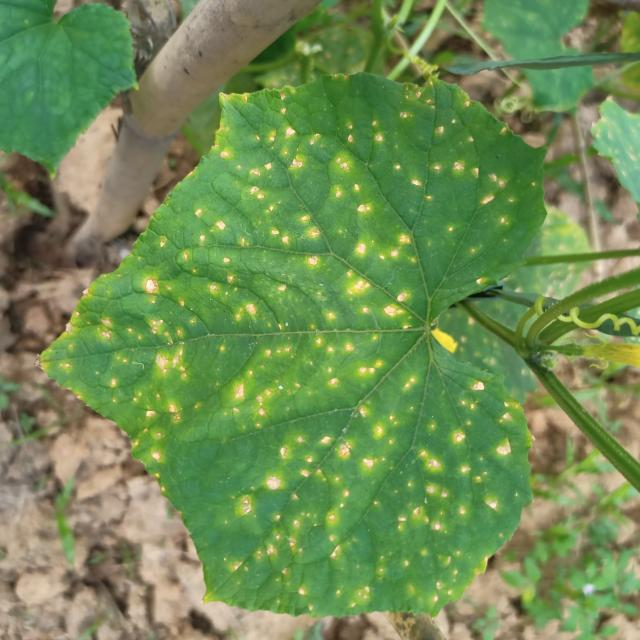disease_cucumber: (86, 84, 527, 604)
